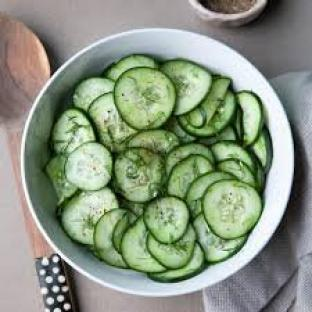Cucumber: (114, 67, 176, 130), (203, 181, 262, 238), (179, 77, 235, 137), (62, 188, 119, 245), (161, 60, 212, 115), (88, 93, 135, 152), (114, 149, 165, 202), (193, 214, 246, 263), (121, 218, 165, 273), (181, 92, 237, 135), (186, 171, 234, 219), (66, 142, 112, 189), (143, 197, 188, 244), (147, 225, 195, 269), (149, 245, 205, 282), (93, 210, 127, 267), (168, 156, 213, 198), (52, 110, 95, 153), (45, 154, 77, 205), (167, 143, 214, 176), (104, 55, 158, 80), (238, 92, 263, 145), (211, 142, 255, 171), (74, 78, 113, 110), (128, 129, 178, 153), (217, 160, 257, 188), (113, 211, 137, 252), (251, 128, 273, 171), (200, 125, 238, 145), (166, 118, 195, 142), (121, 199, 145, 216), (256, 160, 266, 192), (235, 106, 242, 141)
